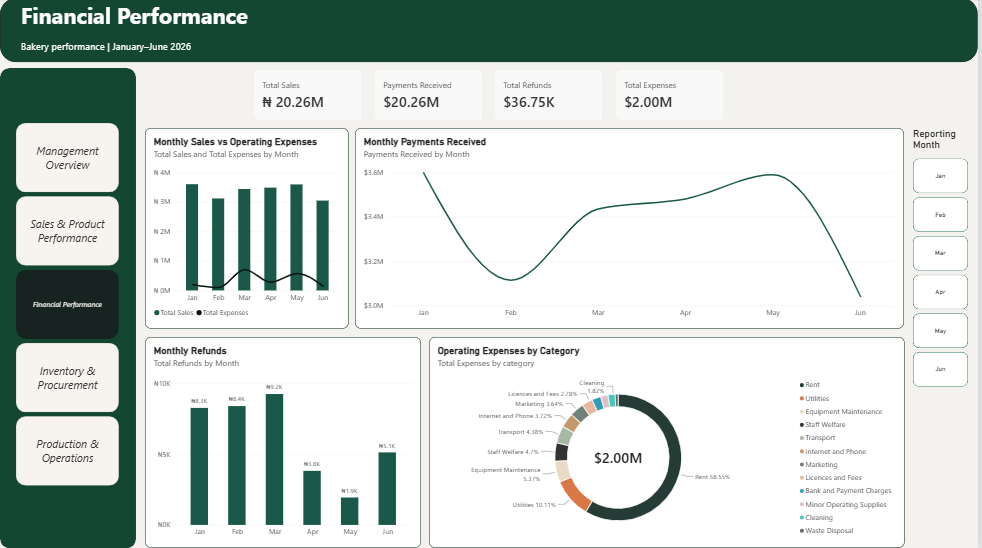

This screenshot's page, from the dashboard's own definition file:
{"tool":"powerbi","page":{"name":"Financial Performance","canvas":[1920,1080],"ordinal":2},"visuals":[{"type":"advancedSlicerVisual","title":"Reporting Month","fields":{"Values":["DimDate.Month"]},"box":[1792,256,108,524],"z":0},{"type":"cardVisual","fields":{"Data":["Measure.Total Sales"]},"box":[492.2,135.7,223.3,110],"z":1000},{"type":"cardVisual","fields":{"Data":["Measure.Total Refunds"]},"box":[967,135.7,223.3,110],"z":2000},{"type":"cardVisual","fields":{"Data":["Measure.Total Expenses"]},"box":[1204.5,135.7,223.3,110],"z":3000},{"type":"cardVisual","fields":{"Data":["Measure.Payments Received"]},"box":[729.6,135.7,223.3,110],"z":4000},{"type":"lineClusteredColumnComboChart","title":"Monthly Sales vs Operating Expenses","fields":{"Category":["DimDate.Month"],"Y":["Measure.Total Sales"],"Y2":["Measure.Total Expenses"]},"box":[284,256,400,394],"z":5000},{"type":"lineChart","title":"Monthly Payments Received","fields":{"Category":["DimDate.Month"],"Y":["Measure.Payments Received"]},"box":[698,256,1078,394],"z":6000},{"type":"clusteredColumnChart","title":"Monthly Refunds","fields":{"Category":["DimDate.Month"],"Y":["Measure.Total Refunds"]},"box":[284,666,542,414],"z":7000},{"type":"donutChart","title":"Operating Expenses by Category","fields":{"Category":["expenses.category"],"Y":["Measure.Total Expenses"]},"box":[842,666,934,414],"z":8000},{"type":"shape","box":[0,0,1920,126],"z":9000},{"type":"textbox","box":[40.9,6.8,625,120],"z":10000},{"type":"shape","box":[0,138,267.1,942.9],"z":11000},{"type":"pageNavigator","box":[32,246,202.5,712.5],"z":12000}]}

Visuals, with their boxes in screenshot pixels (x1, y1, x2, y2), scaled from the page's 1920x1080 canvas onto the 982x548 screenshot:
"Reporting Month" advancedSlicerVisual: select_region(917, 130, 972, 396)
cardVisual - Measure.Total Sales: select_region(252, 69, 366, 125)
cardVisual - Measure.Total Refunds: select_region(495, 69, 609, 125)
cardVisual - Measure.Total Expenses: select_region(616, 69, 730, 125)
cardVisual - Measure.Payments Received: select_region(373, 69, 487, 125)
"Monthly Sales vs Operating Expenses" lineClusteredColumnComboChart: select_region(145, 130, 350, 330)
"Monthly Payments Received" lineChart: select_region(357, 130, 908, 330)
"Monthly Refunds" clusteredColumnChart: select_region(145, 338, 422, 547)
"Operating Expenses by Category" donutChart: select_region(431, 338, 908, 547)
shape: select_region(0, 0, 981, 64)
textbox: select_region(21, 3, 341, 64)
shape: select_region(0, 70, 137, 547)
pageNavigator: select_region(16, 125, 120, 486)
